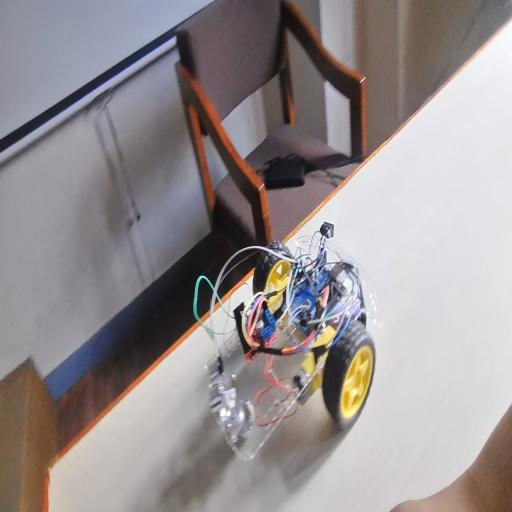car: (175, 242, 380, 427)
